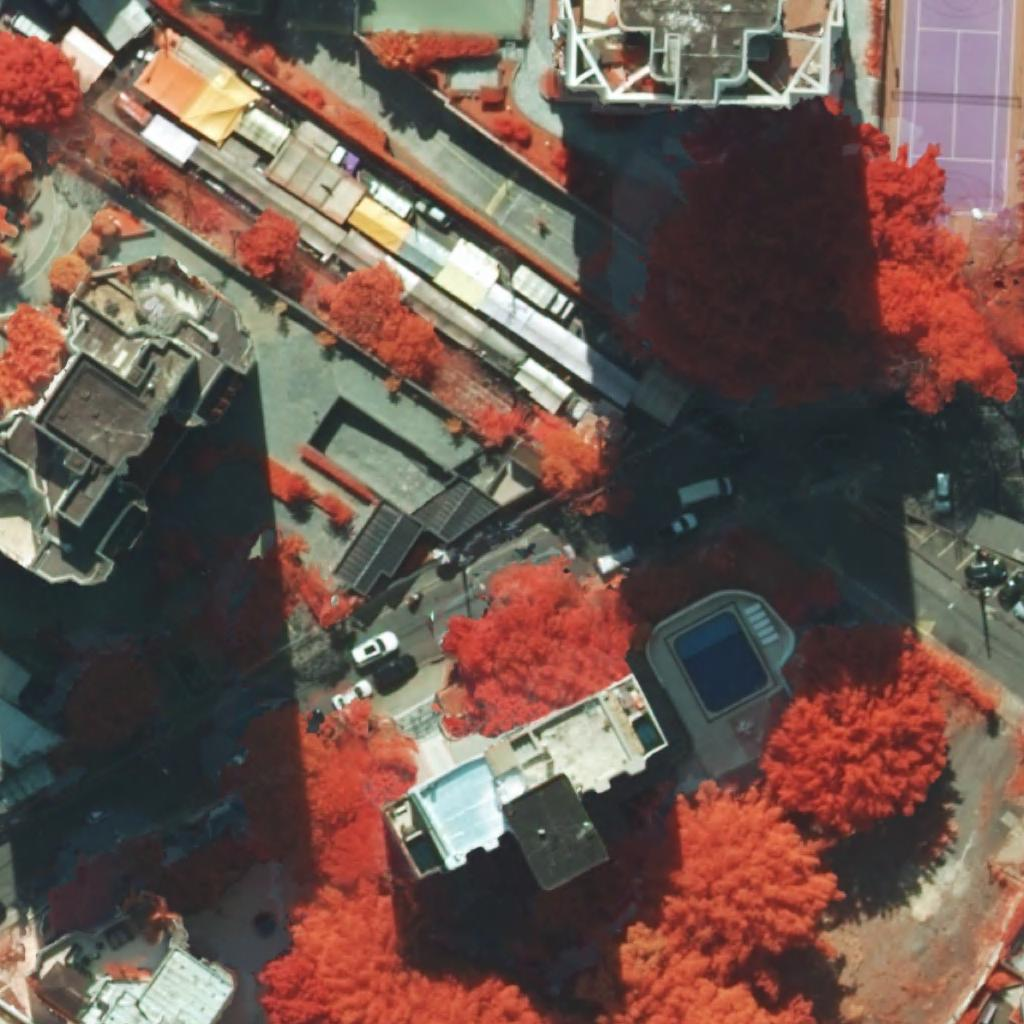pool: (673, 611, 768, 713)
